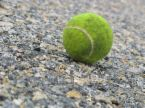tennis ball: (62, 13, 114, 65)
